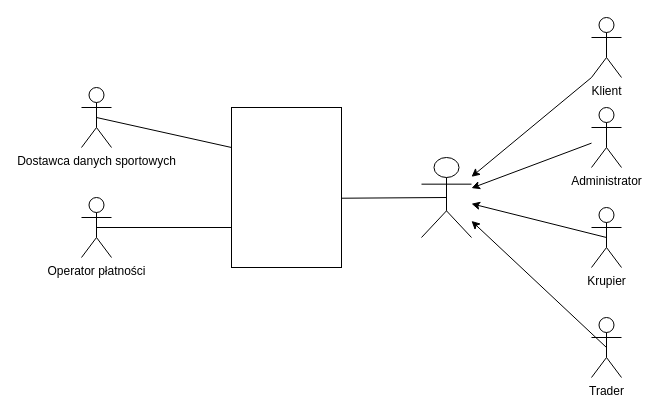
The diagram is 659 pixels wide and 416 high, and some of its shapes have lost their labels. The shapes that lost their labels are listed below. From the top down, each one's centre as x and y in pixels, then its label:
(286,187): System zakładów bukmacherskich
(446,197): Użytkownik
